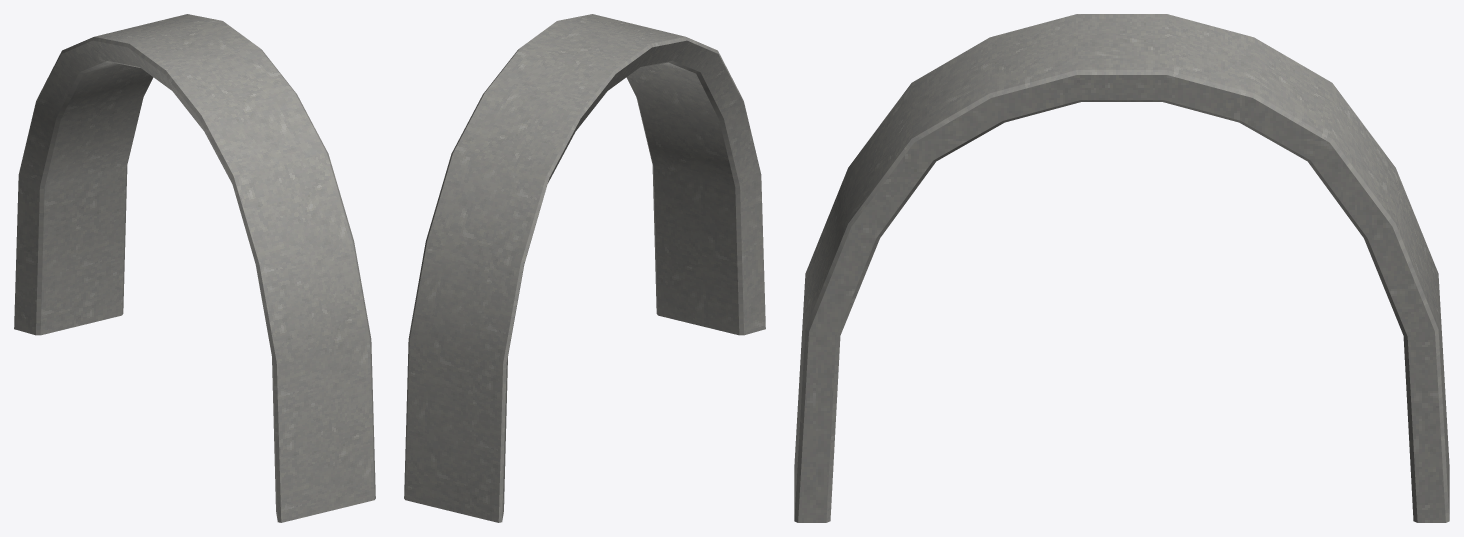
File: GJ_Wall_04_Arch.fbx
3 views of the same model, side by side, from view 1: azimuth 30°, elevation 25°; view 2: azimuth 150°, elevation 25°; view 3: azimuth 270°, elevation 25° (orthographic). The views are drawn at different scales.
Parts seen in each view (by area): view 1: GJ_Wall_04_Arch; view 2: GJ_Wall_04_Arch; view 3: GJ_Wall_04_Arch.
Boxes of the visible parts, x1,y1,x2,y2 form: GJ_Wall_04_Arch: (14,14,375,522); GJ_Wall_04_Arch: (404,14,765,522); GJ_Wall_04_Arch: (794,14,1449,522).
Size of the model in its own units: 65.86 by 237 by 311.
